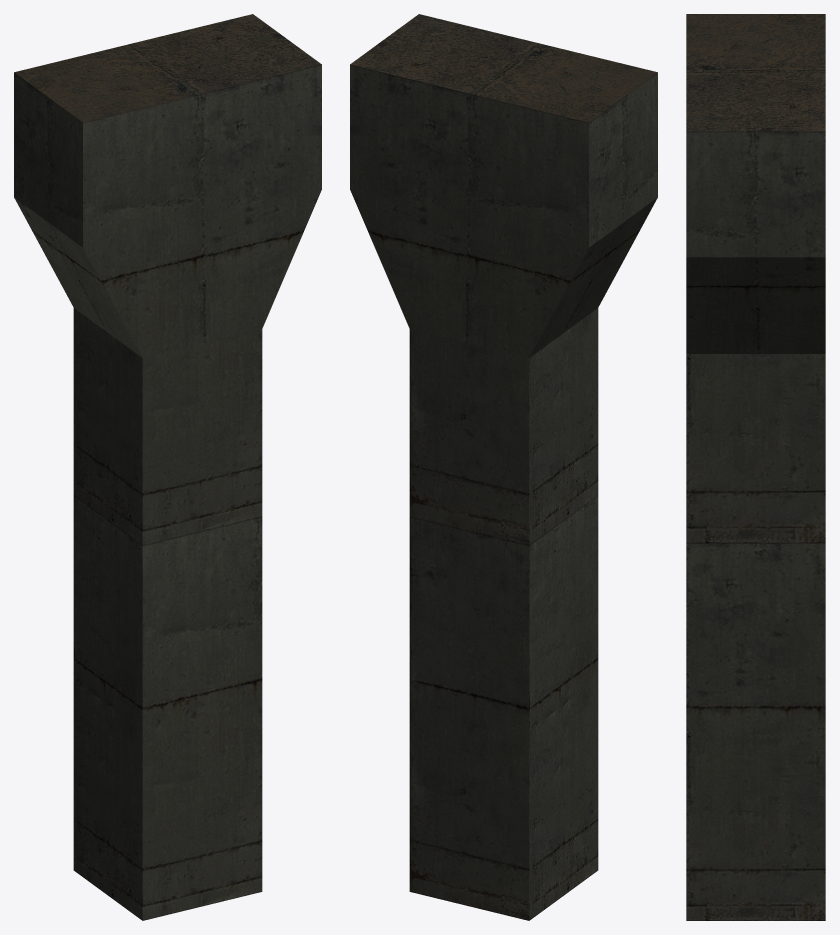
The model's file is pillar_rg_7.dae.
3 views of the same model, side by side, from view 1: azimuth 30°, elevation 25°; view 2: azimuth 150°, elevation 25°; view 3: azimuth 270°, elevation 25° (orthographic).
Visible parts, largest first — view 1: pillar_rg_7; view 2: pillar_rg_7; view 3: pillar_rg_7.
Part boxes in pixels (left/top/right/bottom): pillar_rg_7: left=14, top=14, right=321, bottom=920; pillar_rg_7: left=350, top=14, right=657, bottom=920; pillar_rg_7: left=686, top=14, right=825, bottom=920.
Bounding box in the file's own units: 2 × 1 × 6.5.
2 materials, 2 textured.
